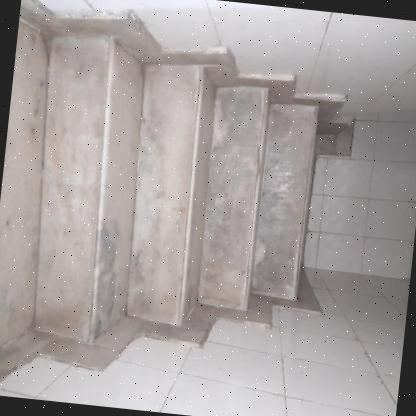stair: (0, 4, 361, 384)
